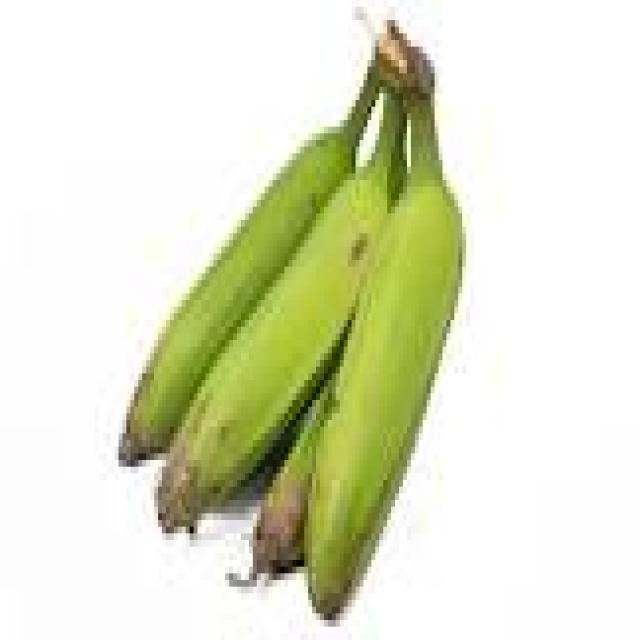banana: (159, 94, 402, 533), (119, 67, 379, 466), (305, 94, 462, 619), (253, 374, 335, 579)
